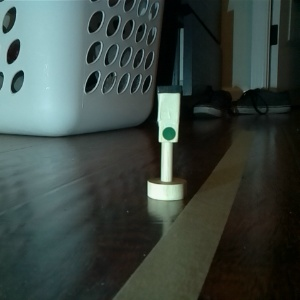traffic light green: (144, 82, 189, 202)
